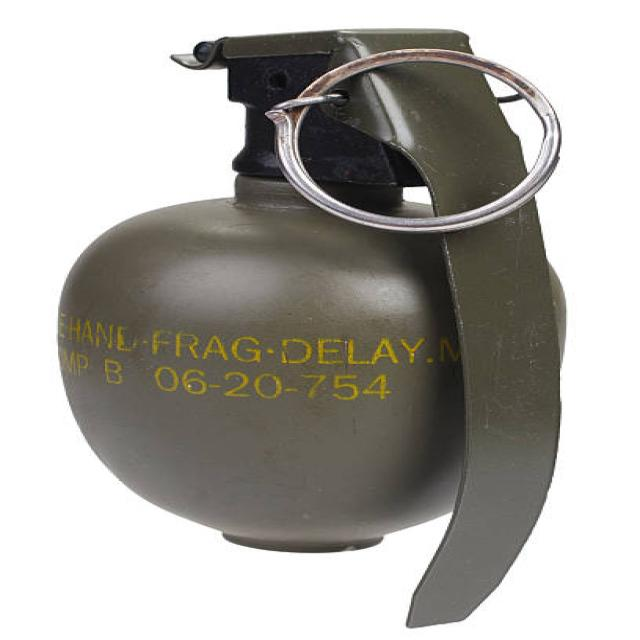grenade: (45, 10, 599, 640)
